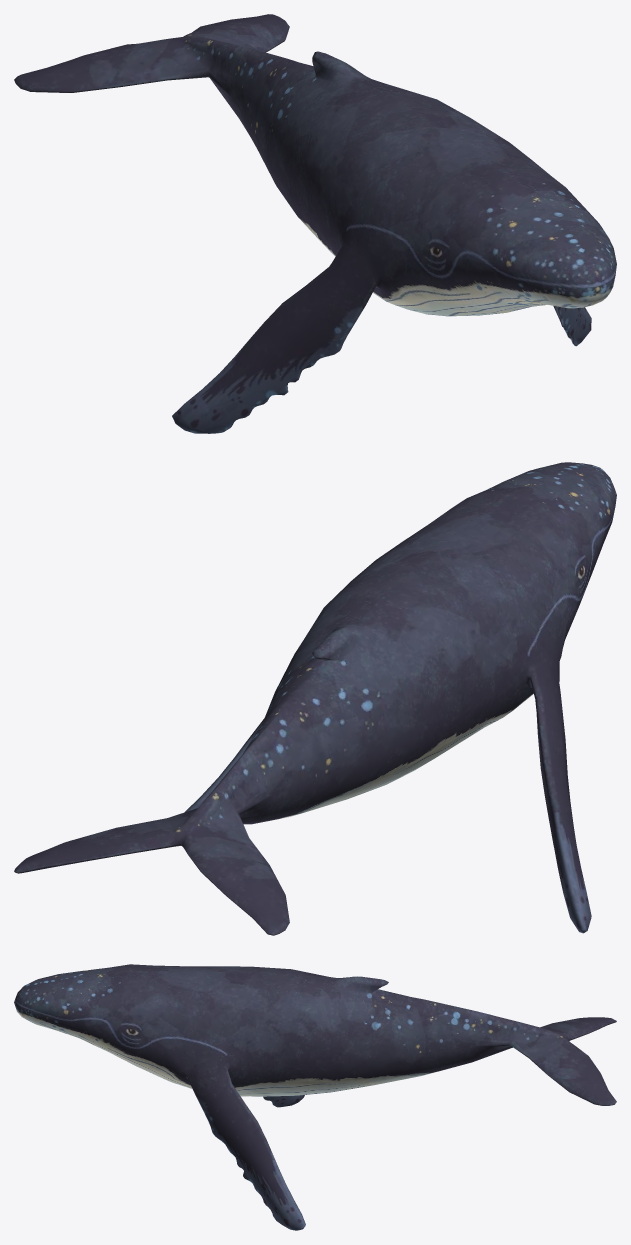
File: Ballena_PBR.glb
3 views of the same model, one above another, from view 1: azimuth 30°, elevation 25°; view 2: azimuth 150°, elevation 25°; view 3: azimuth 270°, elevation 25° (orthographic). The views are drawn at different scales.
Parts seen in each view (by area): view 1: Ballena_MAIN_Geo; view 2: Ballena_MAIN_Geo; view 3: Ballena_MAIN_Geo.
Boxes of the visible parts, x1,y1,x2,y2 form: Ballena_MAIN_Geo: (14, 14, 616, 433); Ballena_MAIN_Geo: (14, 462, 616, 935); Ballena_MAIN_Geo: (14, 964, 616, 1230).
Size of the model in its own units: 12.03 by 8.34 by 23.02.
Materials: 1 (1 with a texture image).
